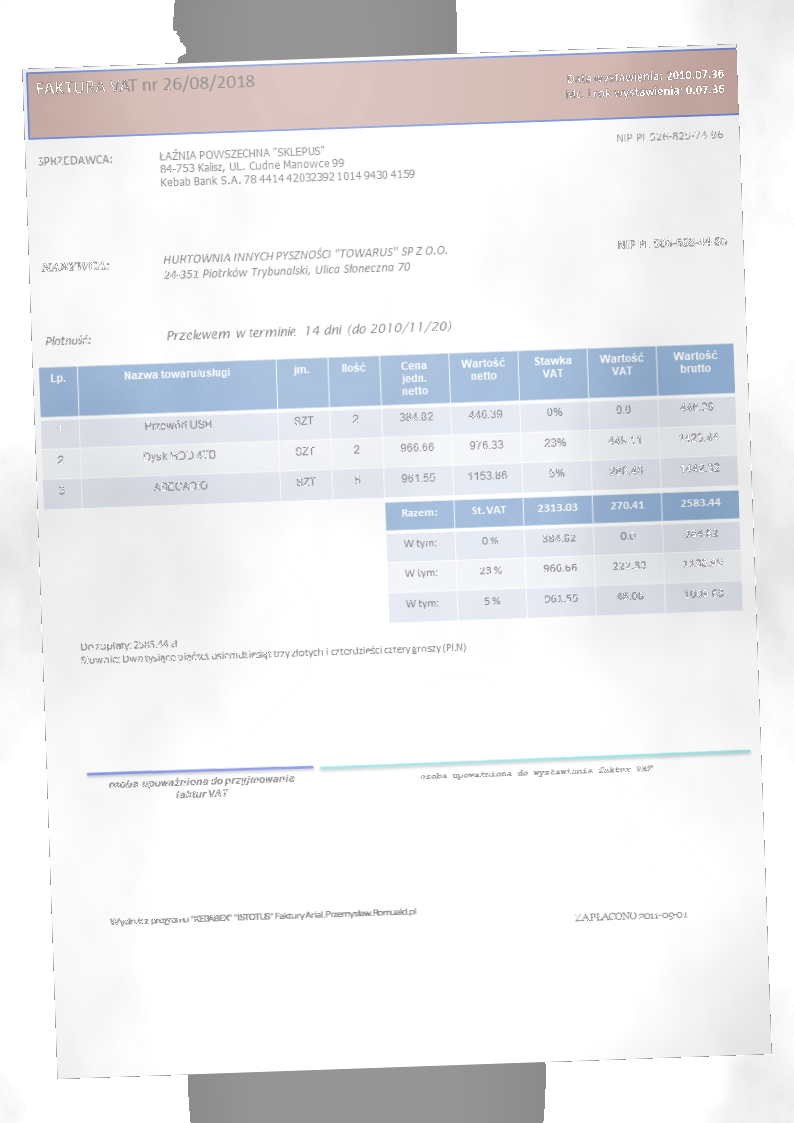Table: (37, 341, 740, 511), (383, 489, 745, 624)
TextBox: (78, 625, 469, 669), (156, 138, 418, 189), (160, 241, 450, 282), (107, 904, 419, 929), (165, 319, 455, 343), (33, 72, 257, 100), (562, 66, 728, 102), (107, 773, 299, 803), (417, 762, 656, 783), (614, 233, 730, 253), (572, 907, 691, 925), (614, 127, 726, 145), (35, 150, 115, 168), (39, 258, 113, 275), (42, 332, 92, 347)
